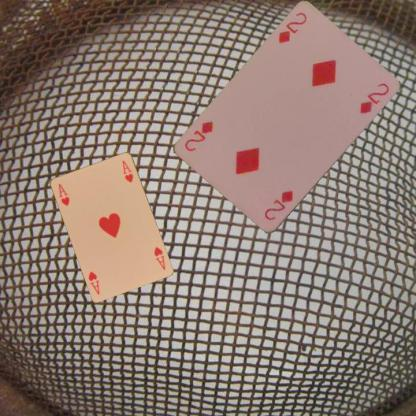2d: (276, 10, 309, 45), (262, 188, 294, 222)
Ah: (151, 244, 166, 271), (56, 181, 70, 207)
